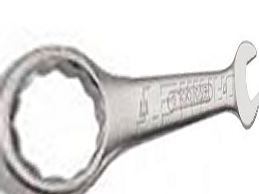wrench: (4, 25, 258, 192)
